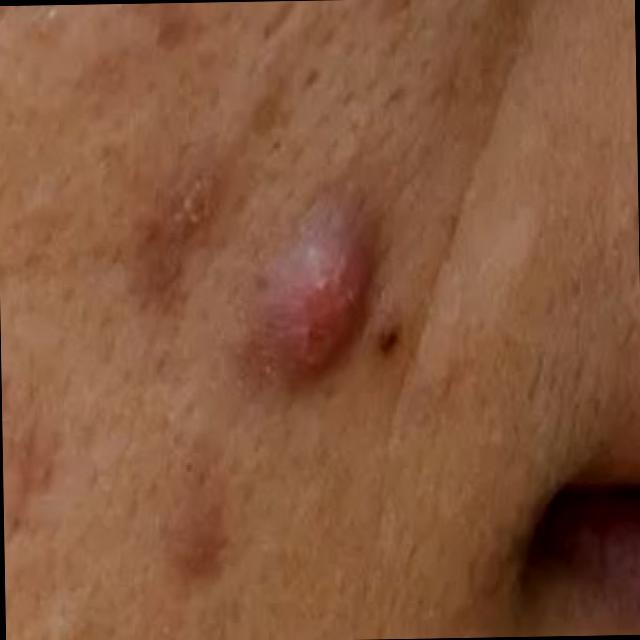nodule: (246, 205, 377, 383)
